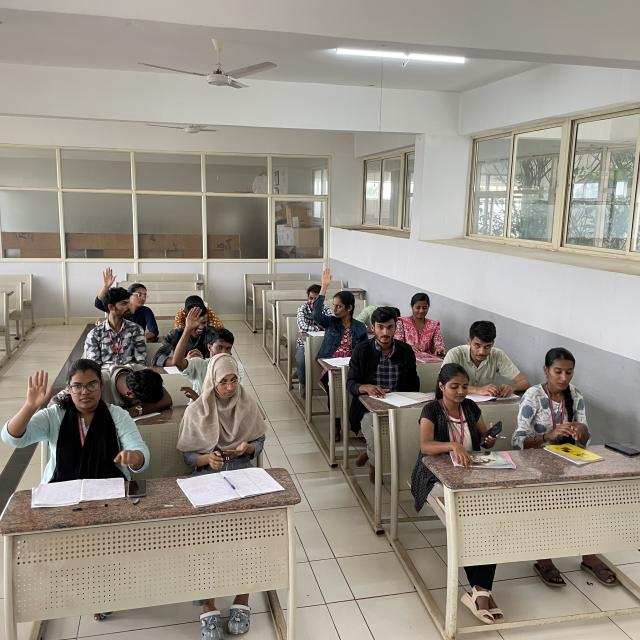Hand Rising: (10, 356, 131, 476), (177, 306, 246, 383), (89, 264, 157, 329), (314, 268, 367, 344)
Sleeping: (95, 353, 173, 416)
Using Phone: (178, 349, 261, 462), (424, 364, 503, 454)
